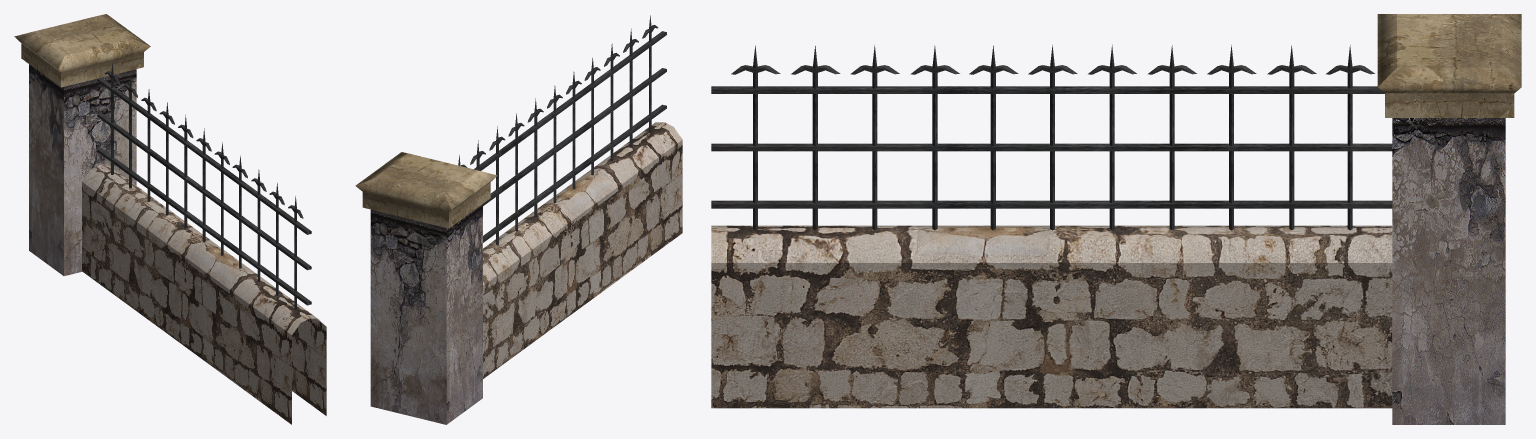
The model's file is Wall_Straight_02_ALT.fbx.
3 renders of one model, left to right at view 1: azimuth 30°, elevation 25°; view 2: azimuth 150°, elevation 25°; view 3: azimuth 270°, elevation 25°, orthographic. The views are drawn at different scales.
Visible parts, largest first — view 1: polySurface1; view 2: polySurface1; view 3: polySurface1.
Part boxes in pixels (x1,y1,x2,y2): polySurface1: [14, 14, 326, 424]; polySurface1: [355, 15, 682, 424]; polySurface1: [711, 14, 1521, 424].
Bounding box in the file's own units: 1.53 × 3.45 × 7.14.
